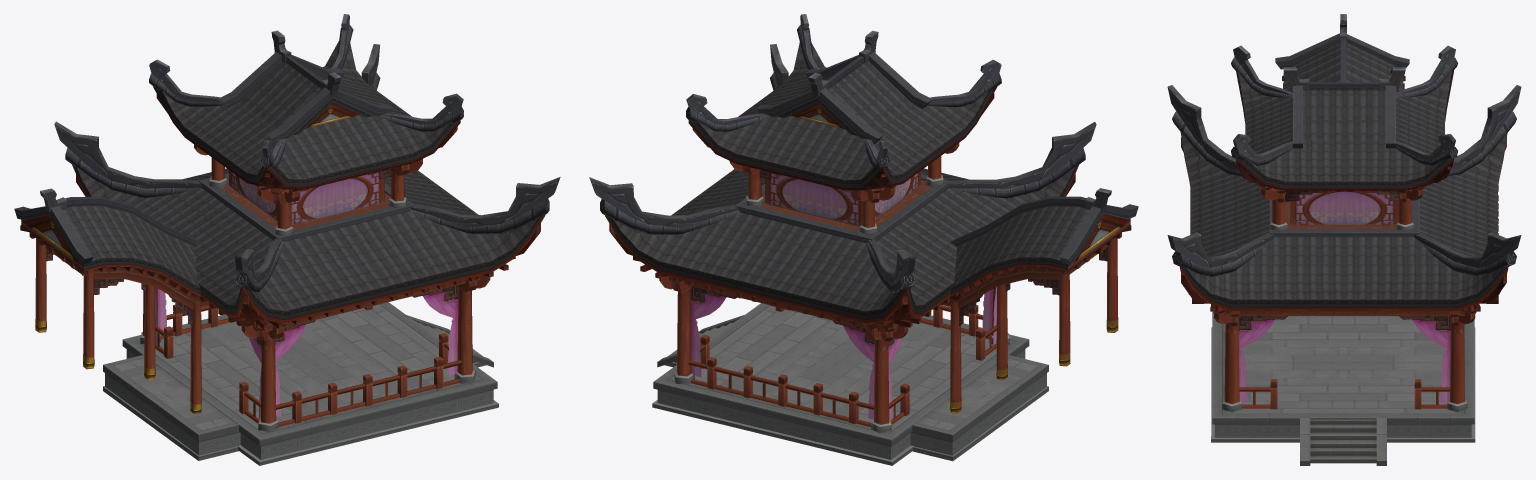
Rendered from ZYbui_CLF_tingzi01.FBX.
3 views of the same model, side by side, from view 1: azimuth 30°, elevation 25°; view 2: azimuth 150°, elevation 25°; view 3: azimuth 270°, elevation 25° (orthographic). The views are drawn at different scales.
Visible parts, largest first — view 1: ZYbui_CLF_tingzi01; view 2: ZYbui_CLF_tingzi01; view 3: ZYbui_CLF_tingzi01.
Boxes of the visible parts, bbox=[...] form: ZYbui_CLF_tingzi01: bbox=[14, 14, 560, 465]; ZYbui_CLF_tingzi01: bbox=[589, 14, 1138, 465]; ZYbui_CLF_tingzi01: bbox=[1167, 14, 1521, 465].
Size of the model in its own units: 1445 by 1080 by 1080.
